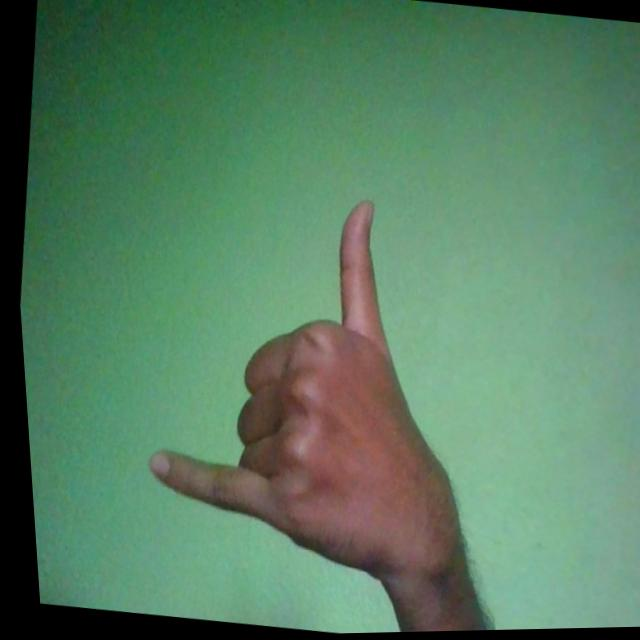Call Me: (114, 176, 502, 596)
